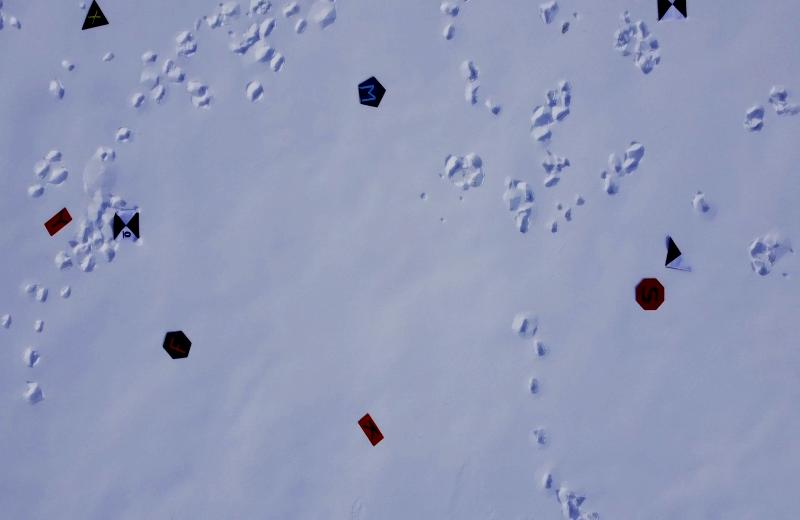Hexagon: (161, 327, 194, 364)
Octagon: (634, 273, 668, 315)
Pentagon: (354, 73, 388, 111)
Rectangle: (356, 410, 385, 451), (42, 206, 76, 238)
Triangle: (79, 0, 111, 34)
